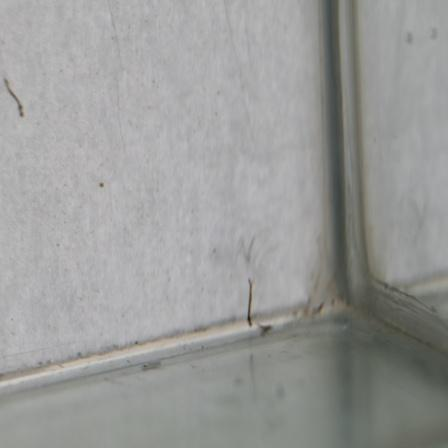Jentik-Nyamuk: (0, 70, 28, 122), (243, 275, 256, 333)
